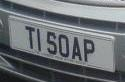5: (46, 30, 58, 56)
A: (72, 36, 83, 62)
I: (36, 28, 42, 52)
O: (58, 33, 70, 58)
P: (83, 38, 96, 63)
T: (25, 25, 35, 49)
